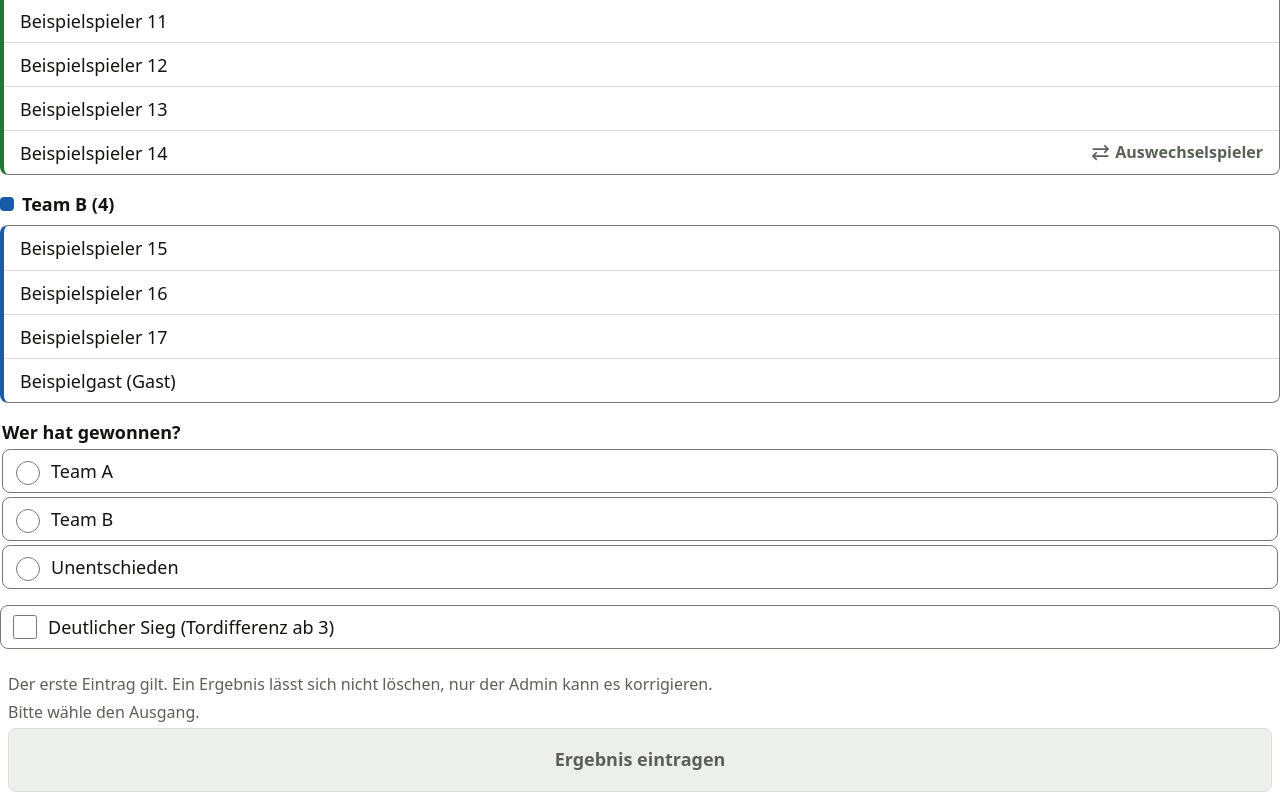
Test: ErgebnisSeite: Eintragen › zeigt bei ERGEBNIS_VORHANDEN den Hinweis und das Ergebnis der anderen Person
The image size is (1280, 800).
(page scrolled)
Click the radio button with test id "ergebnis-sieger-b" at (28, 521), box [16,509,40,533]
(page scrolled)
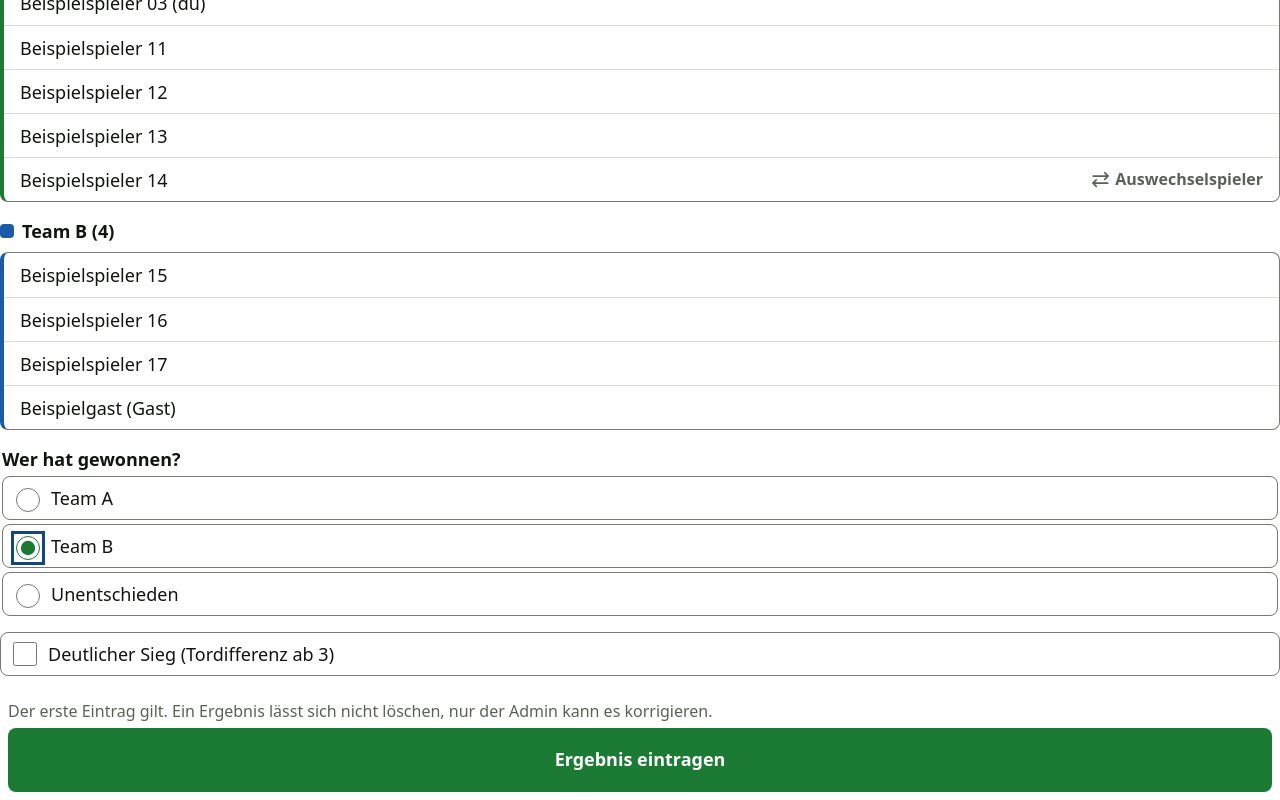
Click the button with test id "ergebnis-absenden" at (640, 760), box [8,728,1272,792]
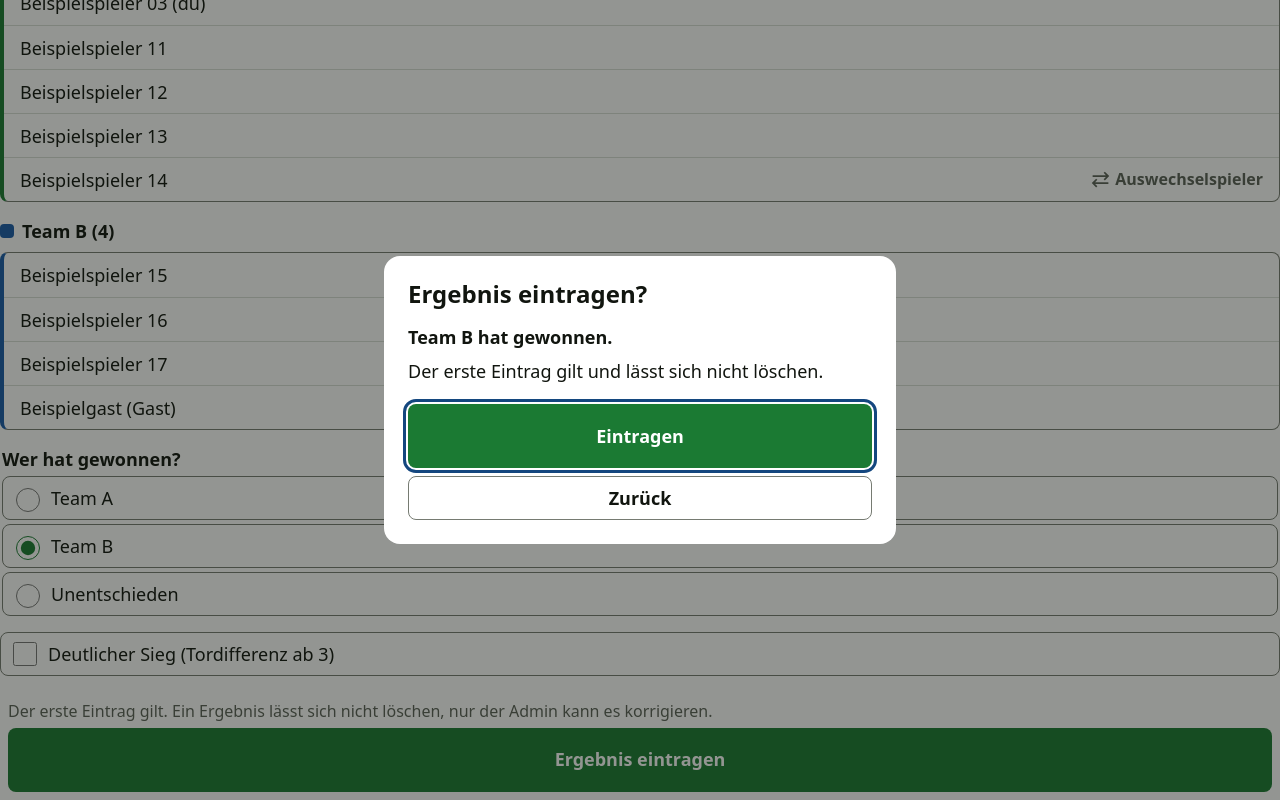
Click the button with test id "ergebnis-bestaetigen" at (640, 436), box [408,404,872,468]
(page scrolled)
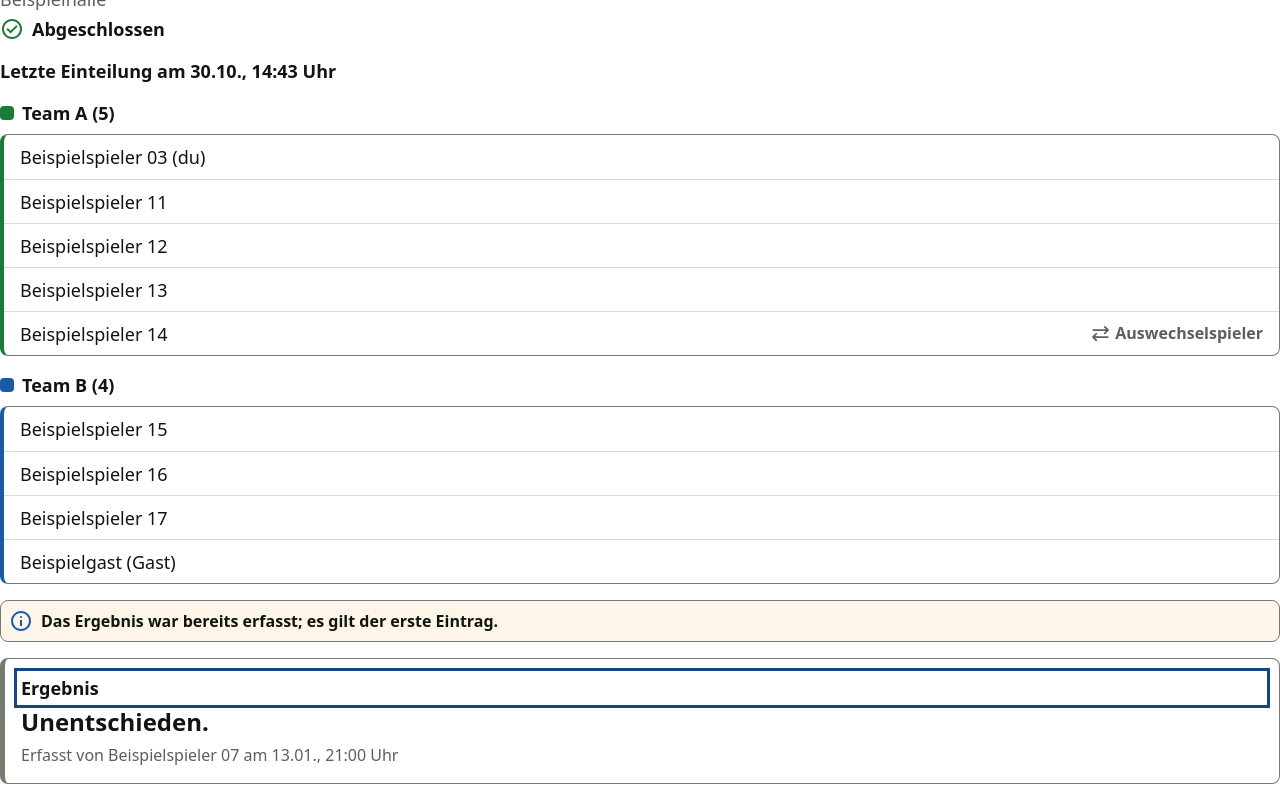
expect the message with test id "ergebnis-vorhanden" reads "Das Ergebnis war bereits erfasst; es gilt der erste Eintrag.": met, box [41,610,498,632]
expect the text with test id "ergebnis-anzeige-satz" reads "Unentschieden.": met, box [21,705,209,738]
expect the text with test id "ergebnis-anzeige-erfasst" shows "Beispielspieler 07": met, box [108,744,239,766]
